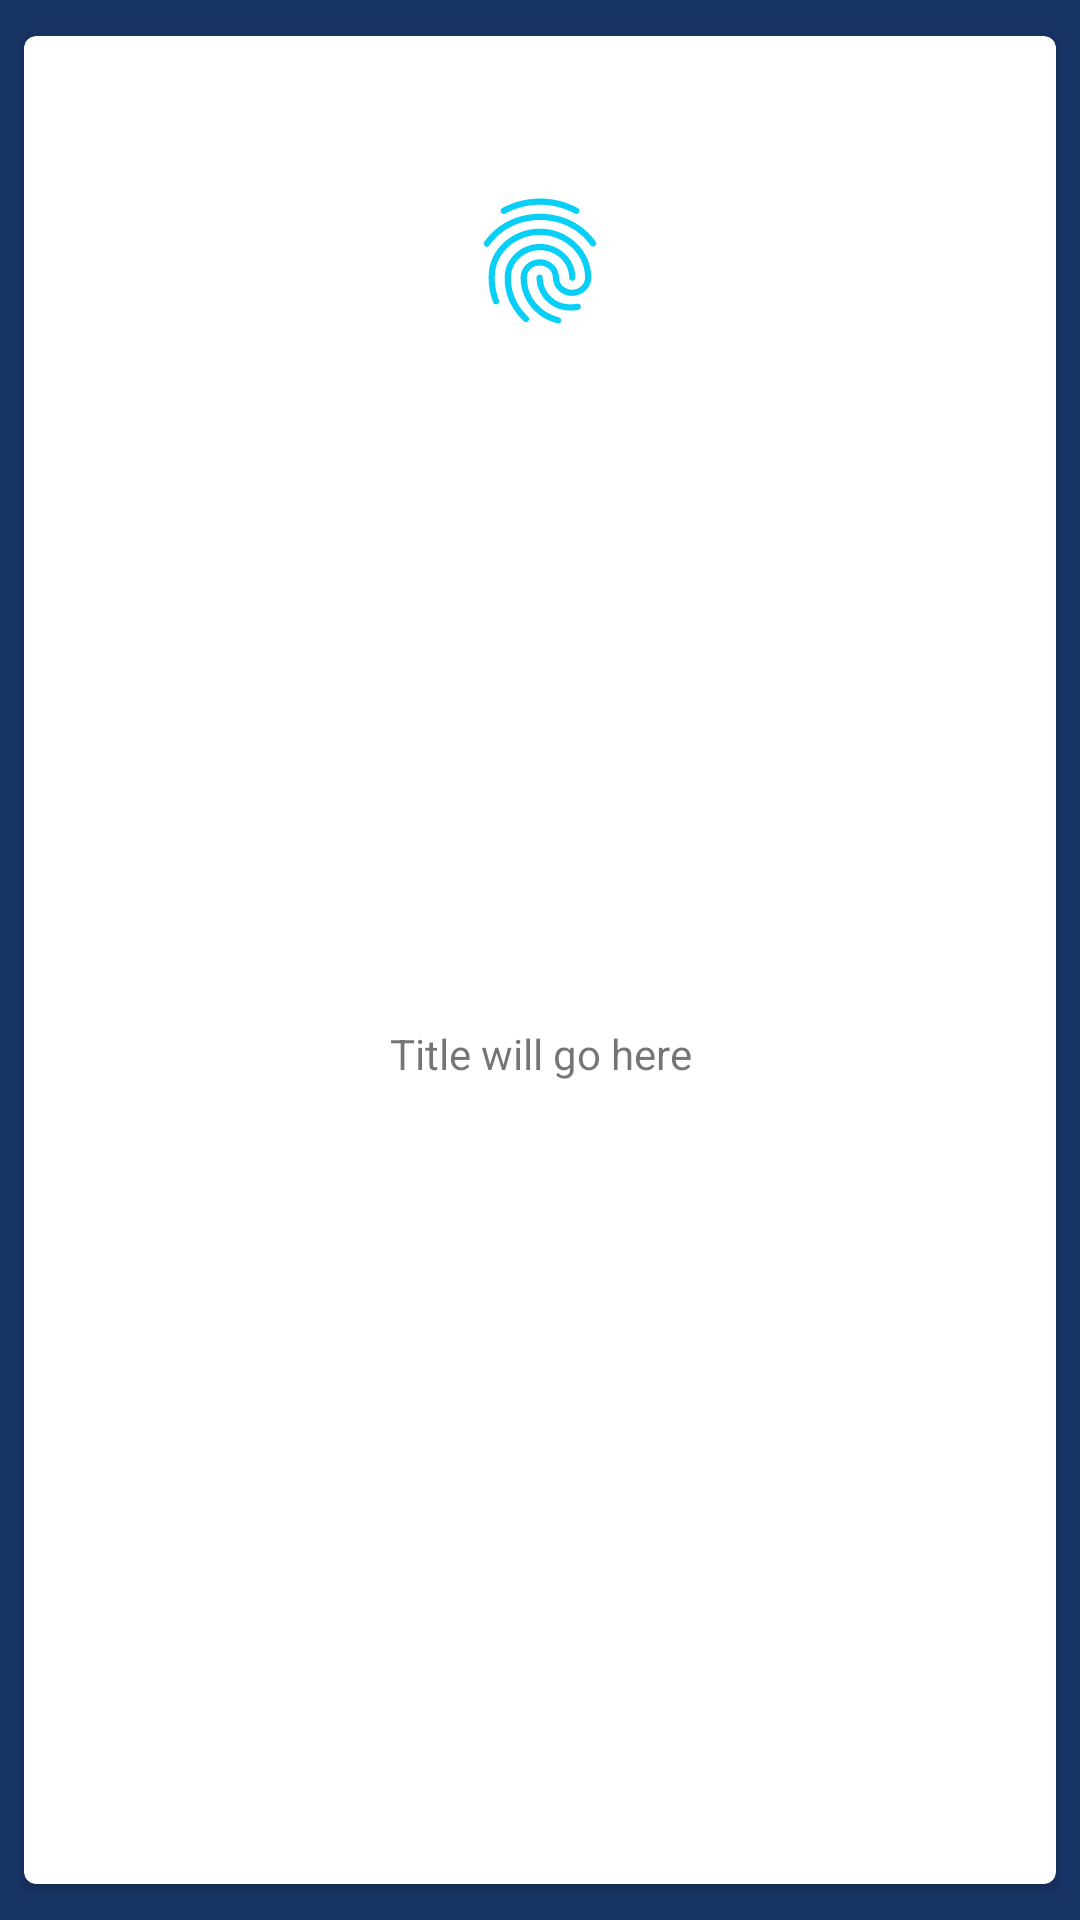

Locate icon controls on the screen. Image size 1080px×1920px, boxes as (x1, y1, x2, y2).
finger print: (483, 198, 597, 324)
